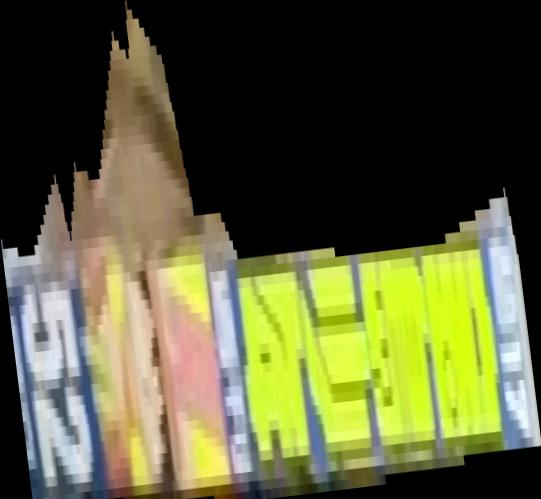flat: (1, 1, 541, 499)
